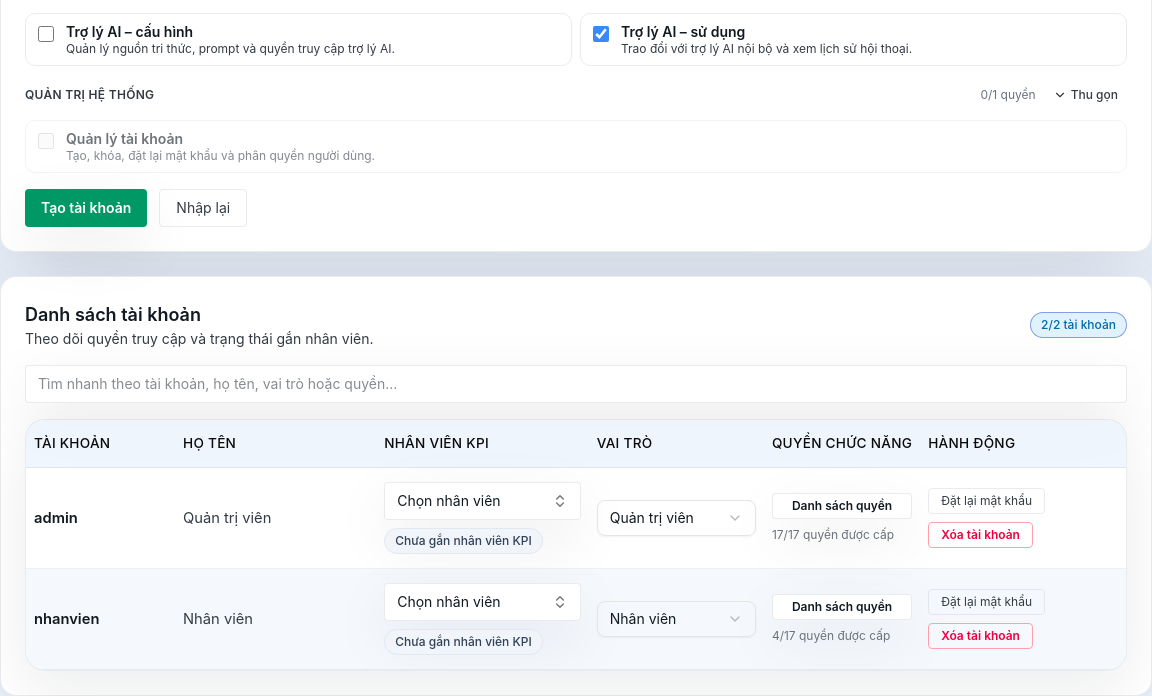
Test: AccountManager – gắn nhân viên KPI › hiển thị vùng cuộn và hai nút điều hướng trong hộp thoại danh sách quyền
(page scrolled)
Expected: the table is shown, left=26, top=420, right=1126, bottom=670
Expected: the row that starts with "admin" is shown, left=26, top=468, right=1126, bottom=569
Click the button "Danh sách quyền" in the row of "admin".
click(842, 506)  # box left=772, top=493, right=912, bottom=519
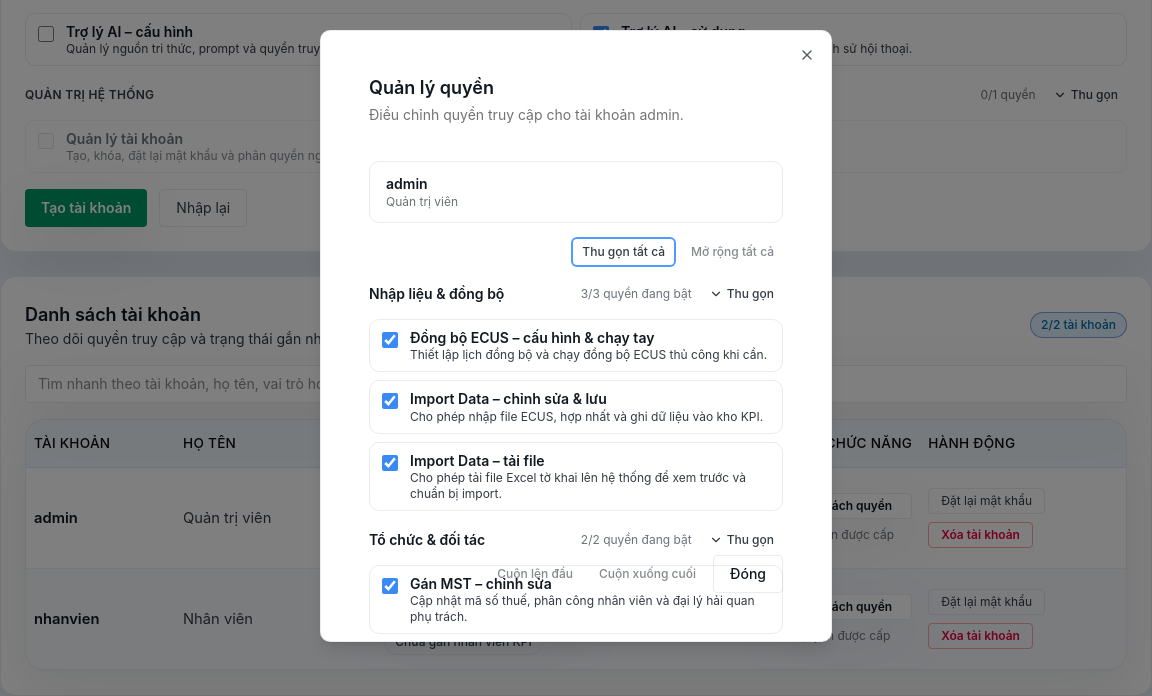
Result: the element that starts with "admin" is shown at left=345, top=153, right=807, bottom=523
Result: the button "Cuộn xuống cuối" is disabled at left=590, top=561, right=705, bottom=587
Result: the button "Cuộn lên đầu" is disabled at left=488, top=561, right=582, bottom=587
